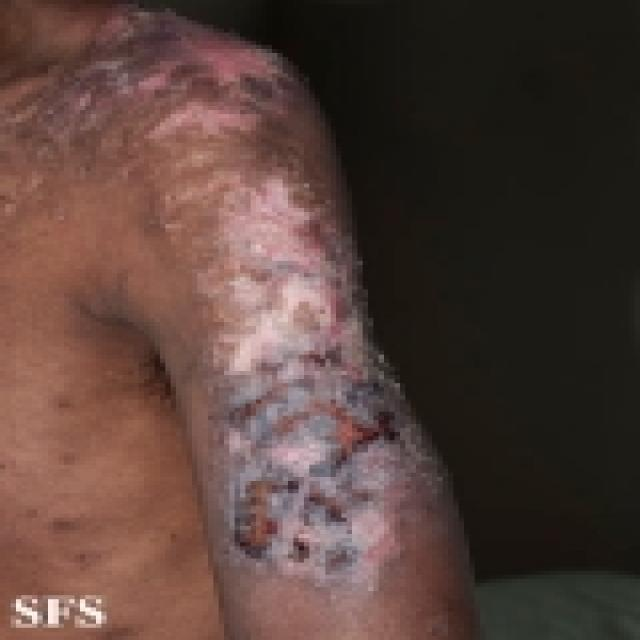lupus: (52, 21, 455, 588)
